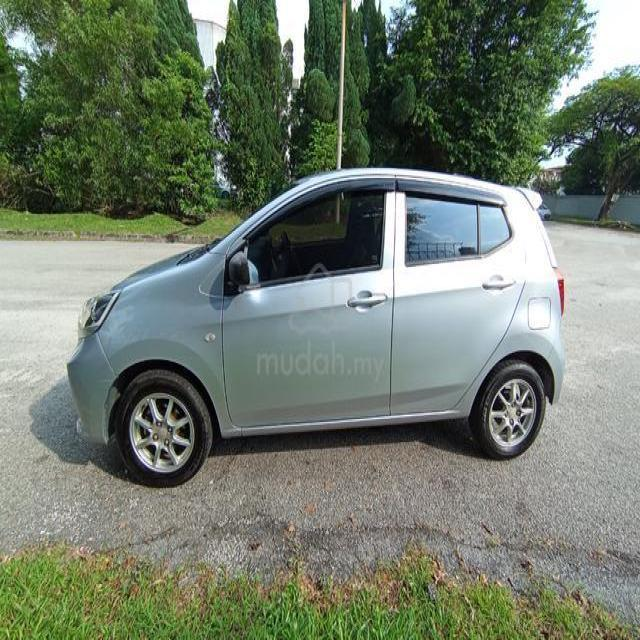PeroduaAxia: (65, 164, 568, 487)
